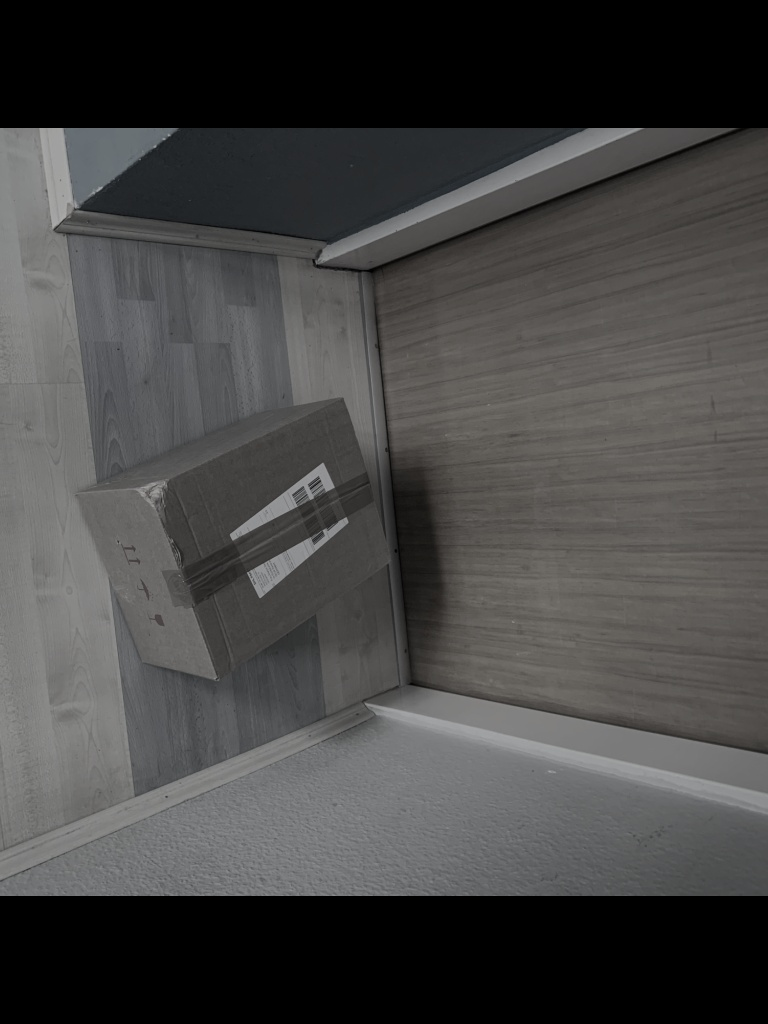good-parcel: (69, 394, 395, 698)
